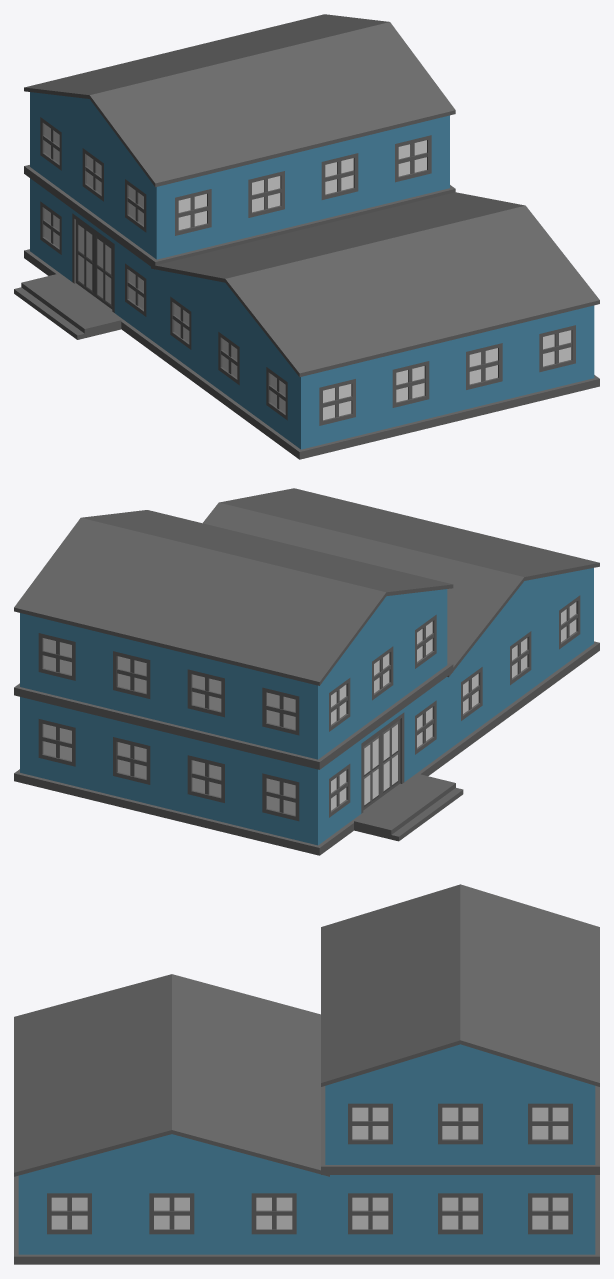
File: medium building 1.fbx
The picture shows the model from 3 angles, top to bottom: view 1: azimuth 30°, elevation 25°; view 2: azimuth 150°, elevation 25°; view 3: azimuth 270°, elevation 25°; orthographic projection. The views are drawn at different scales.
Visible parts, largest first — view 1: building_001; view 2: building_001; view 3: building_001.
Part boxes in pixels (<box>): building_001: <box>14,14,599,459</box>; building_001: <box>14,488,599,855</box>; building_001: <box>14,884,599,1264</box>.
Size of the model in its own units: 940 by 550 by 1302.
